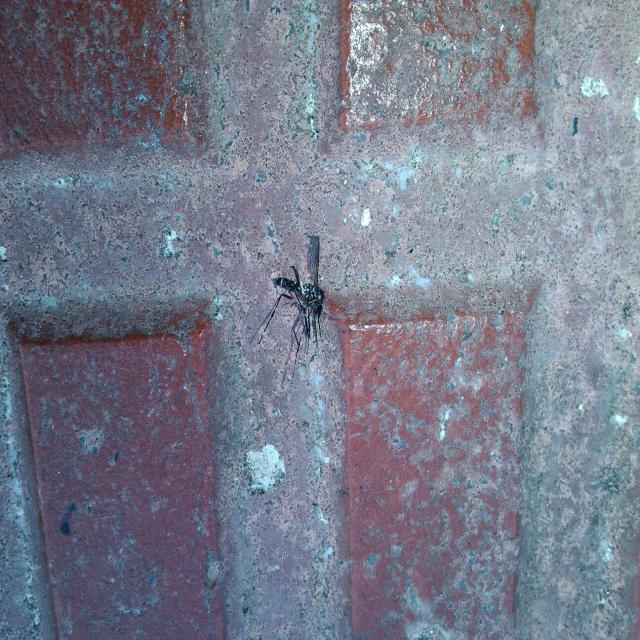albopictus: (246, 237, 338, 384)
